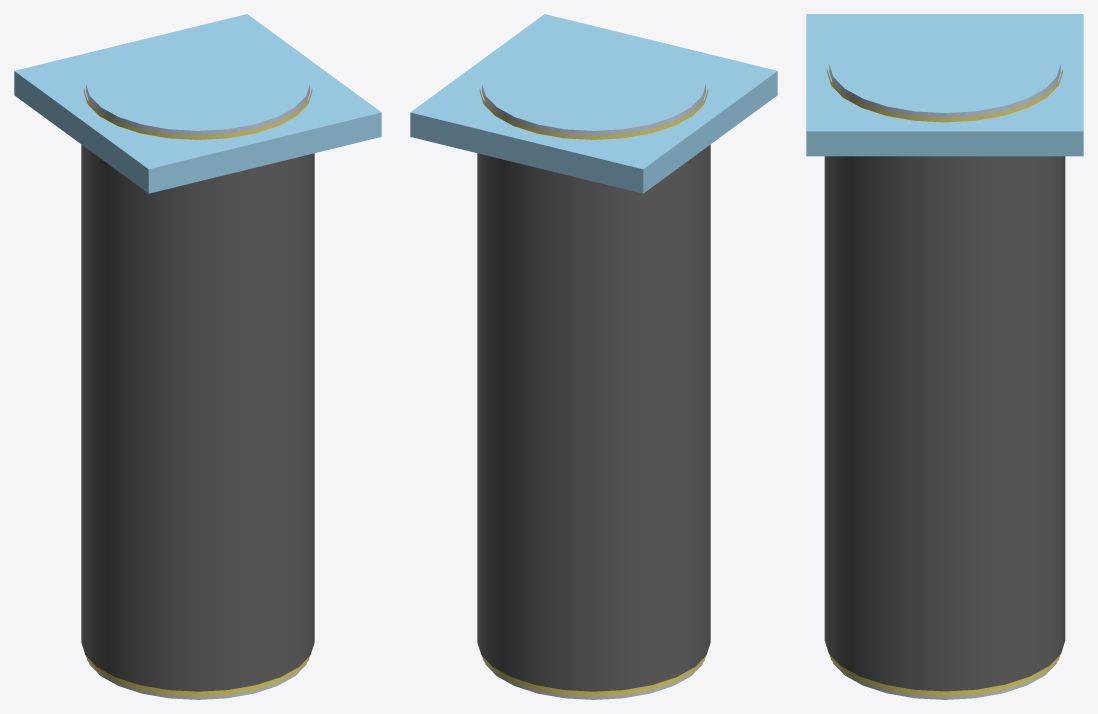
The model's file is structural_retrofitting_frp_jacketing.glb.
3 renders of one model, left to right at view 1: azimuth 30°, elevation 25°; view 2: azimuth 150°, elevation 25°; view 3: azimuth 270°, elevation 25°, orthographic. The views are drawn at different scales.
Visible parts, largest first — view 1: CarbonFRPCompositeConfinementWrap, AnchoredSteelJacketAngleCollars, StructuralEpoxyAdhesiveBondLayer, DamagedDeterioratedConcreteCore; view 2: CarbonFRPCompositeConfinementWrap, AnchoredSteelJacketAngleCollars, StructuralEpoxyAdhesiveBondLayer, DamagedDeterioratedConcreteCore; view 3: CarbonFRPCompositeConfinementWrap, AnchoredSteelJacketAngleCollars, StructuralEpoxyAdhesiveBondLayer, DamagedDeterioratedConcreteCore.
Part boxes in pixels (box(x1,y1,x2,y2)): CarbonFRPCompositeConfinementWrap: box(81, 144, 314, 691); AnchoredSteelJacketAngleCollars: box(14, 14, 381, 193); StructuralEpoxyAdhesiveBondLayer: box(83, 88, 312, 696); DamagedDeterioratedConcreteCore: box(86, 84, 309, 699); CarbonFRPCompositeConfinementWrap: box(477, 144, 710, 691); AnchoredSteelJacketAngleCollars: box(410, 14, 777, 193); StructuralEpoxyAdhesiveBondLayer: box(479, 88, 708, 696); DamagedDeterioratedConcreteCore: box(482, 84, 705, 699); CarbonFRPCompositeConfinementWrap: box(824, 156, 1065, 691); AnchoredSteelJacketAngleCollars: box(806, 14, 1083, 156); StructuralEpoxyAdhesiveBondLayer: box(827, 69, 1062, 696); DamagedDeterioratedConcreteCore: box(829, 65, 1060, 699).
Bounding box in the file's own units: 0.6 × 1.4 × 0.6.
